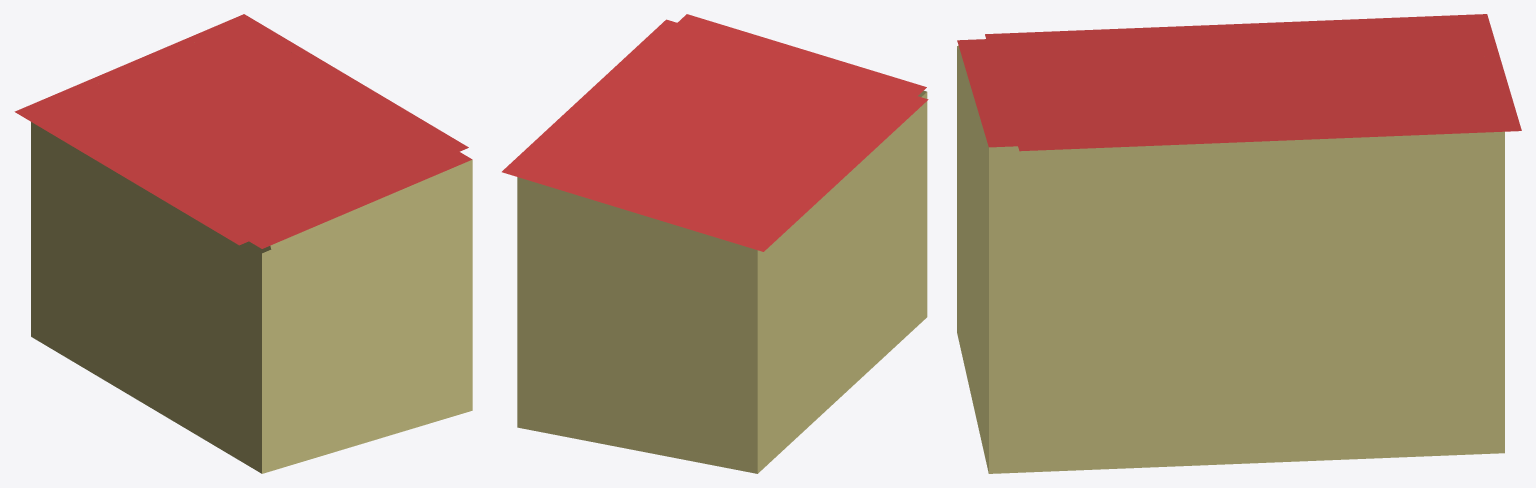
3 renders of one model, left to right at view 1: azimuth 30°, elevation 25°; view 2: azimuth 150°, elevation 25°; view 3: azimuth 270°, elevation 25°, orthographic. The views are drawn at different scales.
Size of the model in its own units: 6.68 by 9.14 by 5.86.
